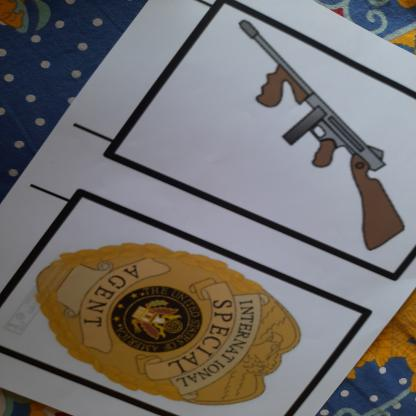Bootlegger: (235, 9, 415, 255)
G-man: (9, 238, 310, 416)
